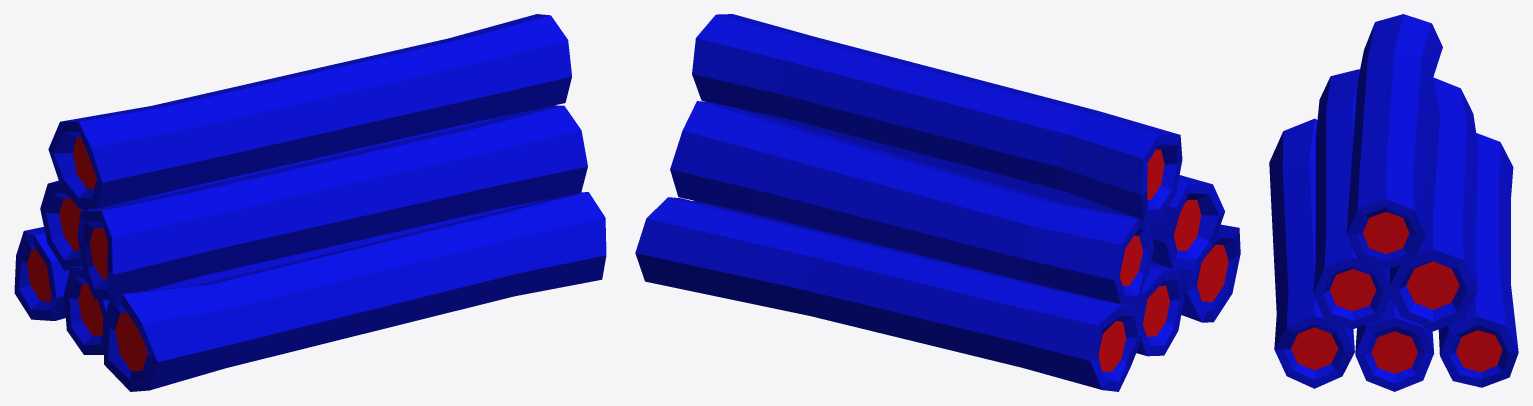
The model's file is SM_Long_LogStack2.fbx.
3 renders of one model, left to right at view 1: azimuth 30°, elevation 25°; view 2: azimuth 150°, elevation 25°; view 3: azimuth 270°, elevation 25°, orthographic. The views are drawn at different scales.
Parts seen in each view (by area): view 1: SM_Long_LogStack2; view 2: SM_Long_LogStack2; view 3: SM_Long_LogStack2.
Boxes of the visible parts, x1,y1,x2,y2 form: SM_Long_LogStack2: (14,14,606,391); SM_Long_LogStack2: (635,14,1240,391); SM_Long_LogStack2: (1269,14,1518,391).
Size of the model in its own units: 192 by 88.34 by 104.
